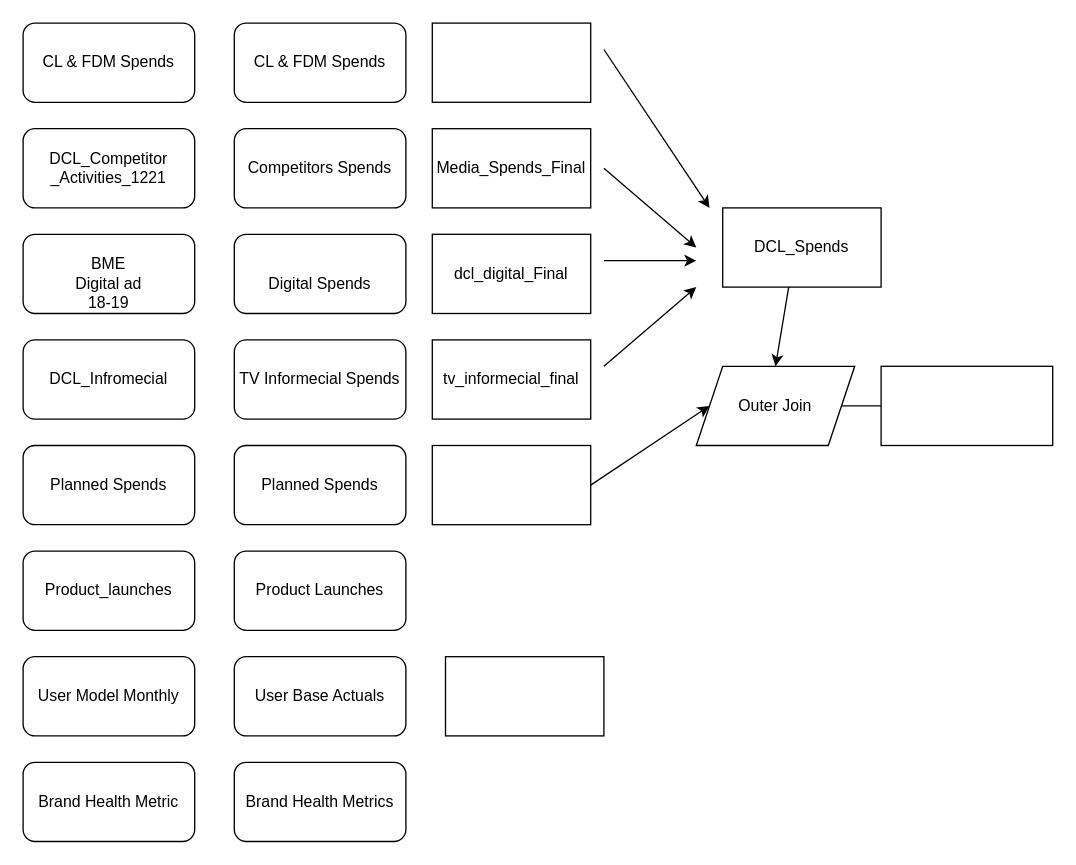
Image size: 1076x865. Some labels were removed from this diagram. Each missing label, with the box of its shape:
base_file_final: (444, 655, 604, 736)
DCL_clfdm_Final: (431, 22, 591, 102)
planned_spends: (431, 444, 591, 525)
Spends_DCL_Total: (880, 365, 1053, 446)
